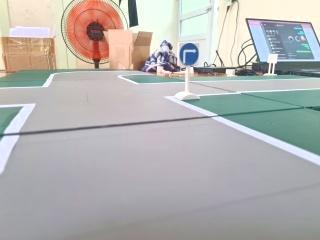right: (177, 34, 203, 71)
